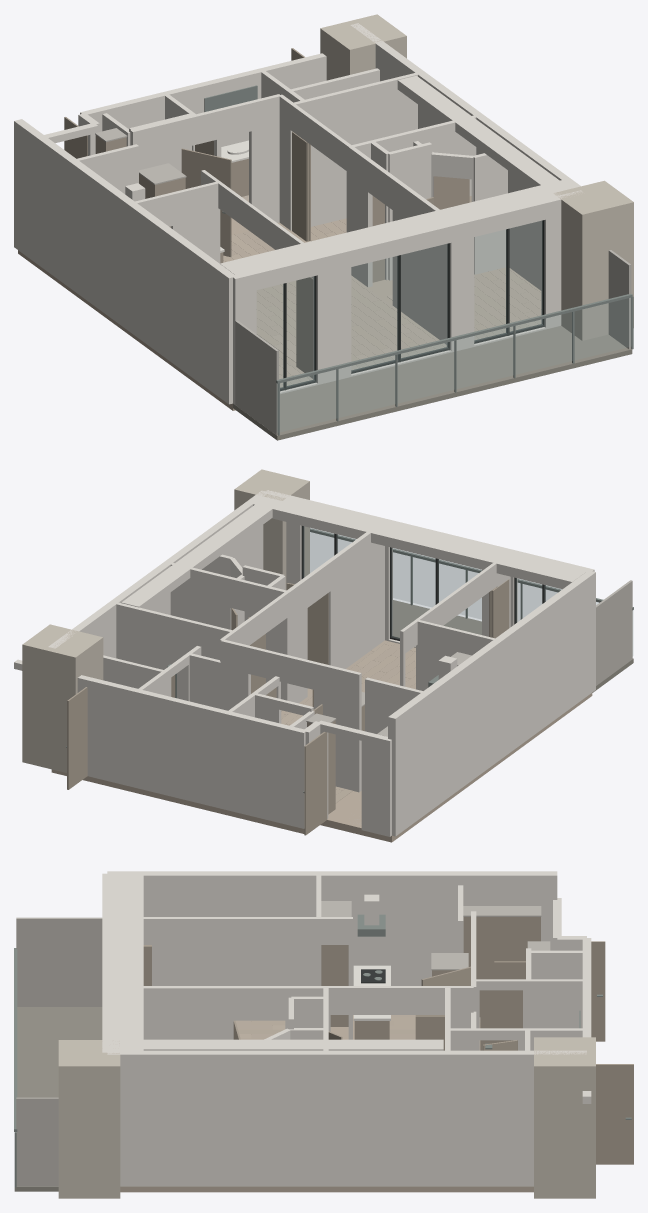
The model's file is S65C_apartment.glb.
The picture shows the model from 3 angles, top to bottom: view 1: azimuth 30°, elevation 25°; view 2: azimuth 150°, elevation 25°; view 3: azimuth 270°, elevation 25°; orthographic projection. The views are drawn at different scales.
Visible parts, largest first — view 1: West exterior, Window glass (×3), Balcony facade (×7), Balcony glass balustrade, Balcony slab, SE structural column, Bedroom 1 west (×3), Hall south (×3), Bath bedroom partition, East exterior, North exterior, Balcony side lowered ceiling (+24 smaller); view 2: West exterior, North exterior, Bedroom 1 west (×3), NE structural column, Hall south (×3), Balcony side lowered ceiling, Window glass (×3), Bath bedroom partition, Bedroom 3 south (×3), Balcony glass balustrade, East exterior, Interior slab (+20 smaller); view 3: East exterior, West exterior, NE structural column, SE structural column, Balcony side screen west, Bedroom 1 west (×3), Bedroom 2 sliding partition (×2), Balcony side lowered ceiling, Balcony slab, Bedroom 3 west (×2), Balcony side screen east, TR corridor door (+24 smaller).
Part boxes in pixels (x1,y1,x2,y2): West exterior: (14,119,236,404); Window glass (×3): (257,221,542,388); Balcony facade (×7): (232,190,582,404); Balcony glass balustrade: (277,298,631,432); Balcony slab: (233,326,632,440); SE structural column: (553,180,633,340); Bedroom 1 west (×3): (348,146,457,344); Hall south (×3): (130,94,280,222); Bath bedroom partition: (292,72,420,226); East exterior: (350,23,580,290); North exterior: (80,53,326,146); Balcony side lowered ceiling: (220,180,574,274); West exterior: (388,570,595,836); North exterior: (77,675,306,828); Bedroom 1 west (×3): (287,522,384,703); NE structural column: (22,624,103,772); Hall south (×3): (220,639,361,792); Balcony side lowered ceiling: (252,494,585,589); Window glass (×3): (303,526,561,638); Bath bedroom partition: (113,602,233,699); Bedroom 3 south (×3): (167,562,286,699); Balcony glass balustrade: (310,532,633,655); East exterior: (48,490,268,658); Interior slab: (51,640,592,842); East exterior: (107,1050,586,1186); West exterior: (107,871,557,985); NE structural column: (534,1037,595,1198); SE structural column: (58,1040,120,1198); Balcony side screen west: (16,917,102,1006); Bedroom 1 west (×3): (113,986,325,1039); Bedroom 2 sliding partition (×2): (142,917,352,1039); Balcony side lowered ceiling: (112,875,143,1051); Balcony slab: (14,1007,102,1191); Bedroom 3 west (×2): (330,986,473,1028); Balcony side screen east: (16,1097,58,1186); TR corridor door: (596,1064,633,1164).
Bounding box in the file's own units: 8.8 × 2.86 × 11.49.
